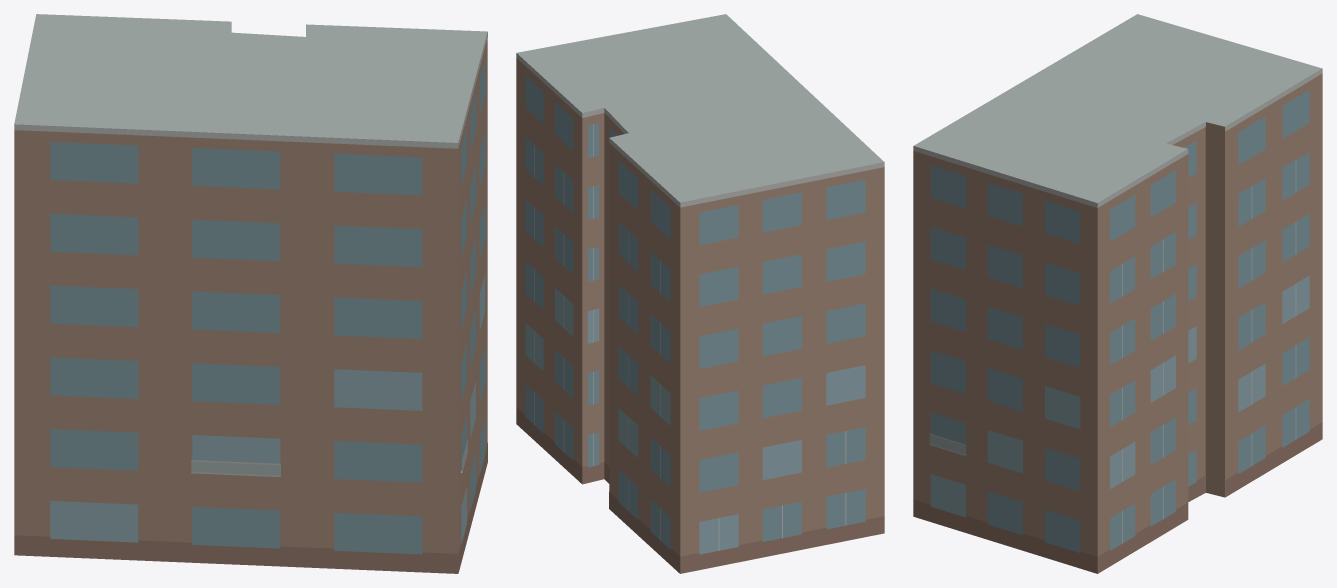
The model's file is survey-upis-32900505.glb.
3 views of the same model, side by side, from view 1: azimuth 30°, elevation 25°; view 2: azimuth 150°, elevation 25°; view 3: azimuth 270°, elevation 25° (orthographic). The views are drawn at different scales.
Visible parts, largest first — view 1: survey-upis-32900505.tmp; view 2: survey-upis-32900505.tmp; view 3: survey-upis-32900505.tmp.
Part boxes in pixels (<box>): survey-upis-32900505.tmp: <box>14,14,487,573</box>; survey-upis-32900505.tmp: <box>516,14,884,573</box>; survey-upis-32900505.tmp: <box>913,14,1322,573</box>.
Size of the model in its own units: 20.03 by 18.3 by 18.31.
